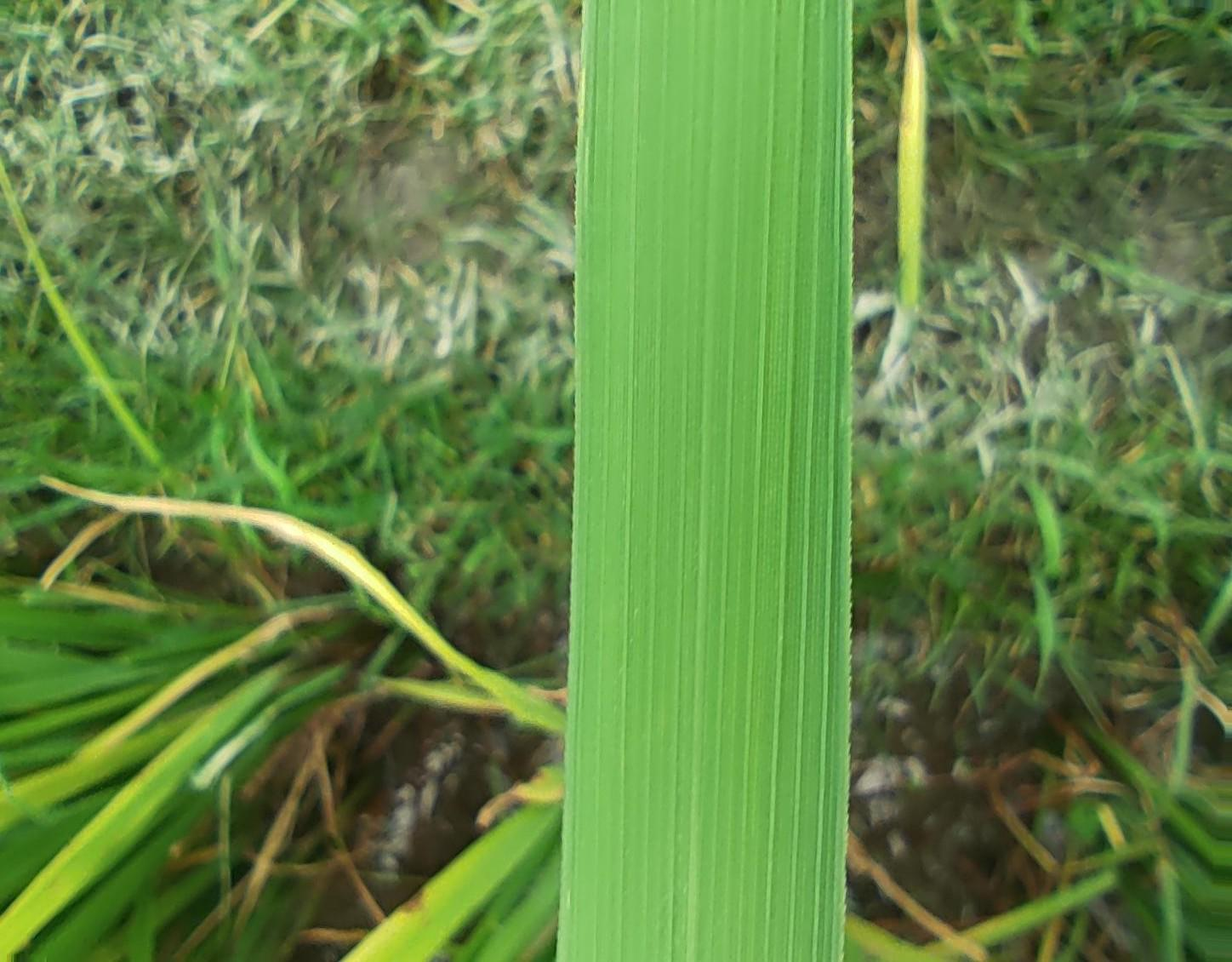Healthy: (557, 0, 851, 961)
